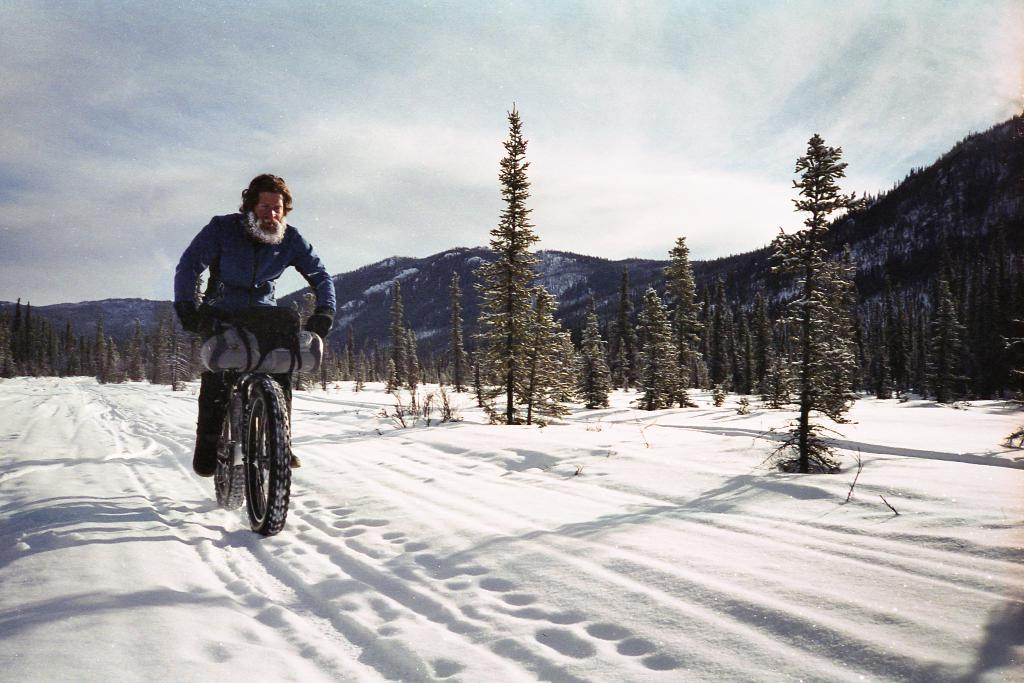Bike: (188, 322, 345, 552)
